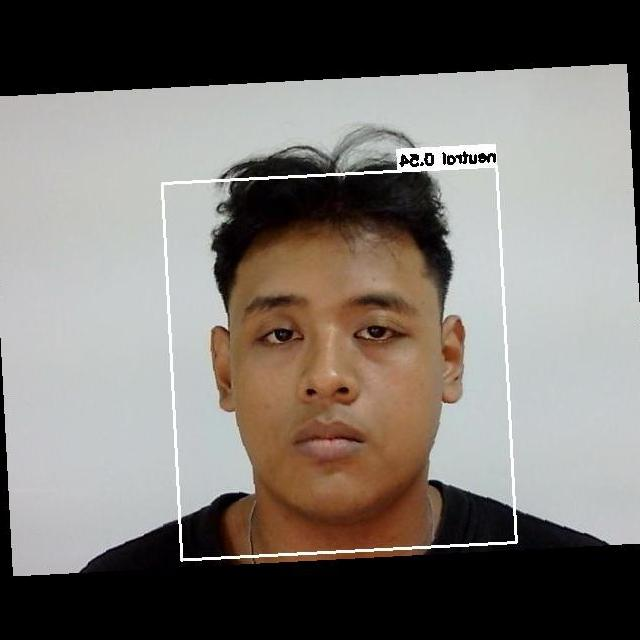Natural: (229, 271, 436, 478)
